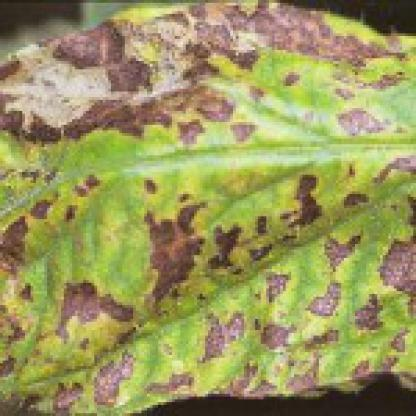Tomato leaf bacterial spot: (3, 11, 413, 410)
